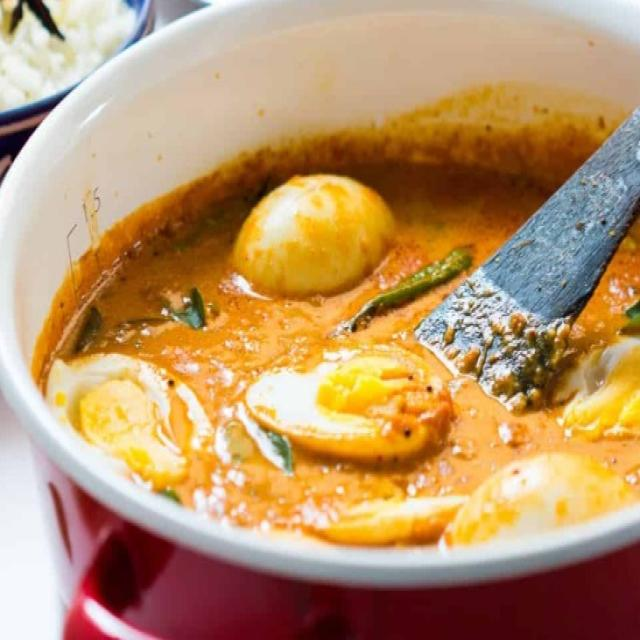EGG: (29, 76, 639, 547)
